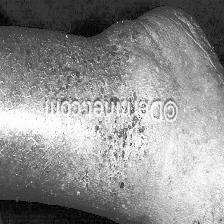Non-Cancerous Skin Condition: (2, 124, 146, 204)
